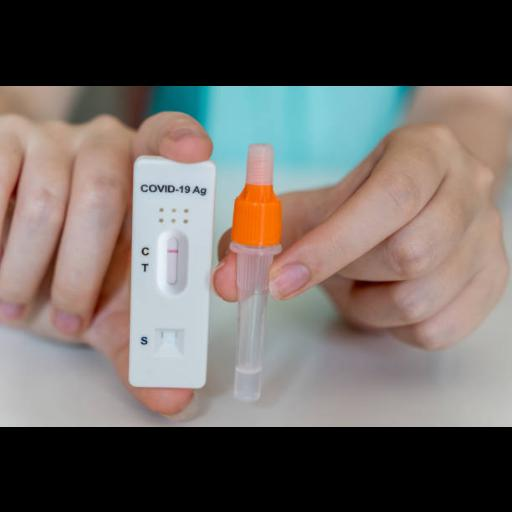Neg: (134, 158, 212, 390)
